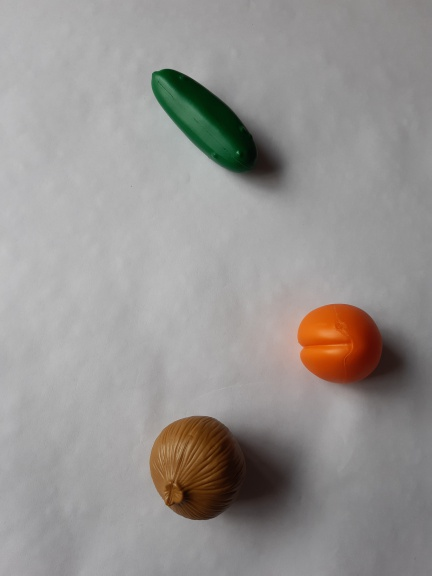apricot: (289, 299, 391, 395)
cucumber: (141, 57, 266, 181)
onion: (141, 411, 251, 526)
